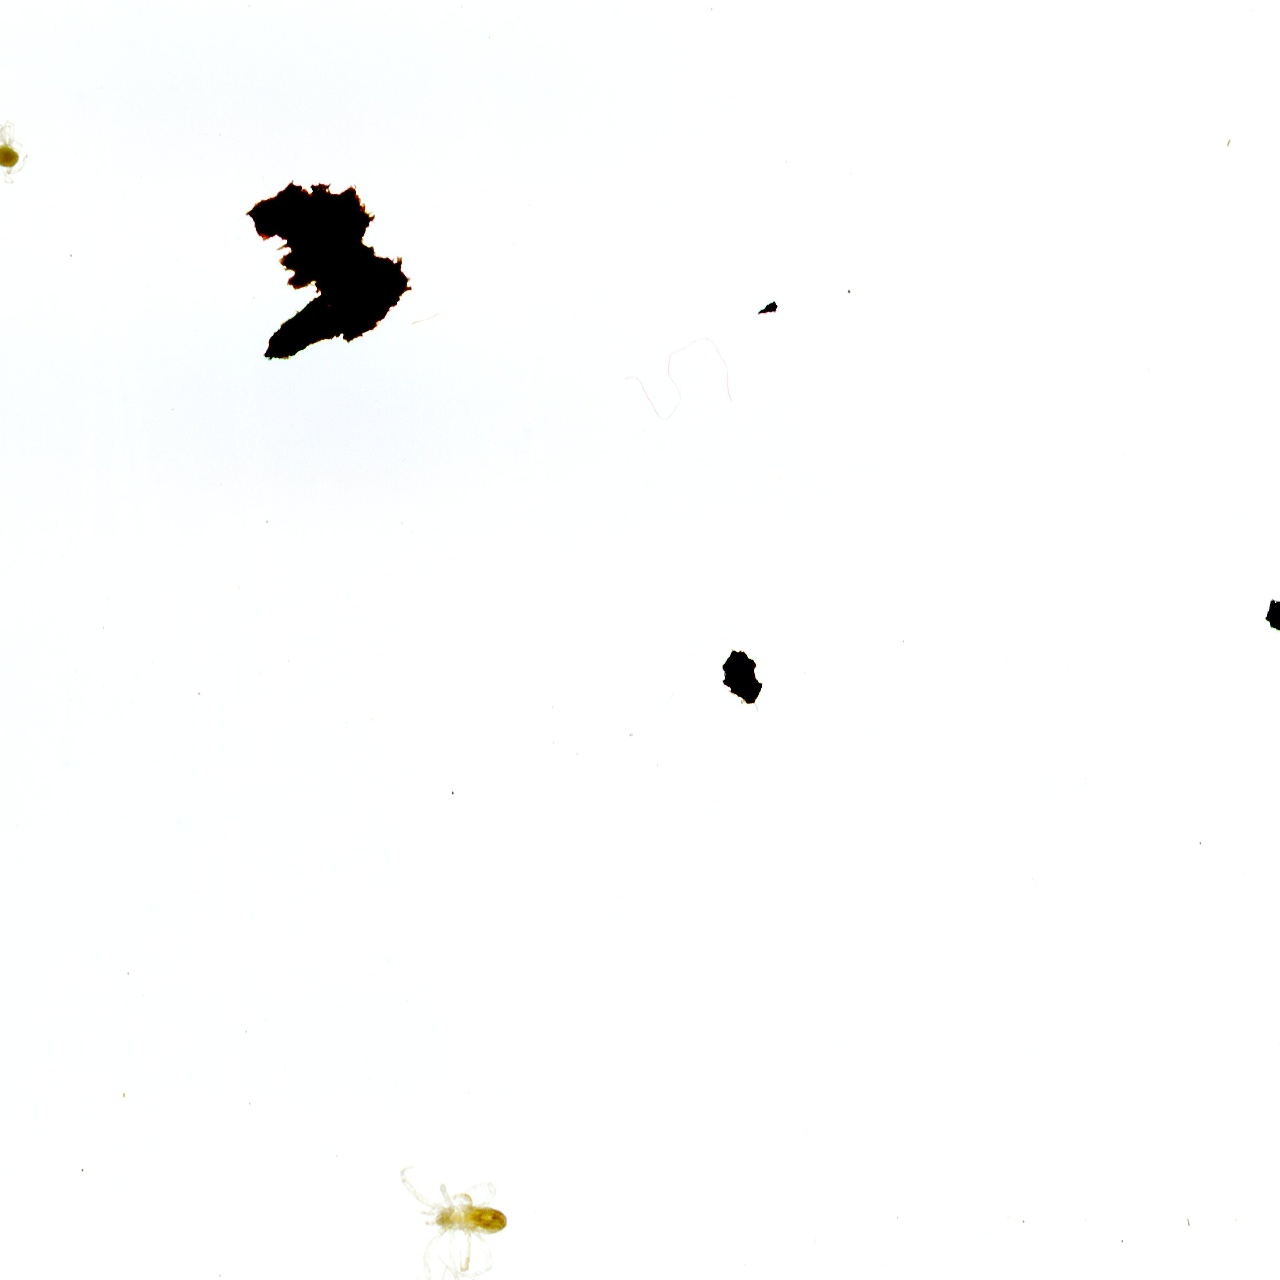arthropod: (388, 1159, 512, 1280), (0, 117, 29, 185)
